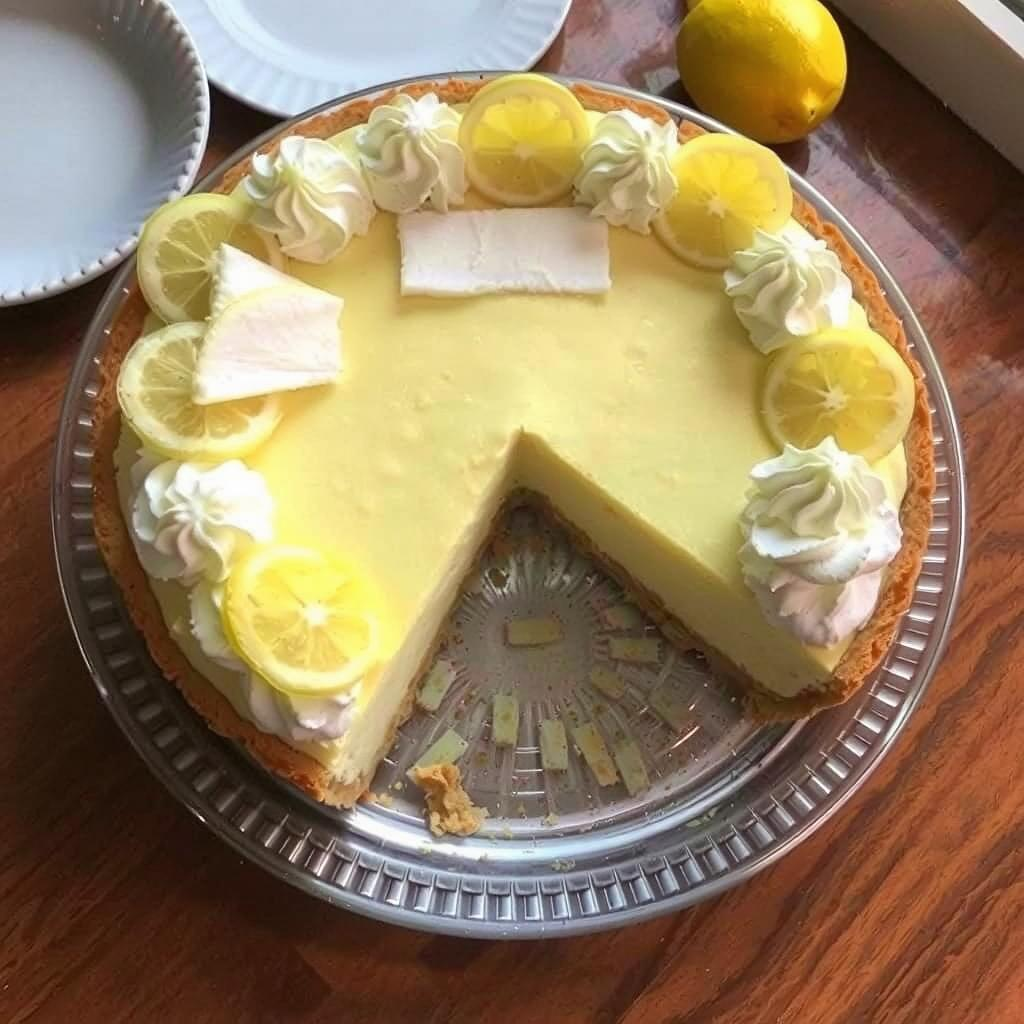pie: (71, 64, 953, 840)
